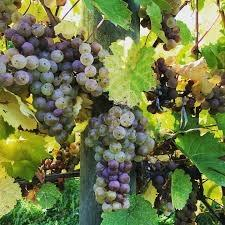Grape Rotten: (0, 1, 225, 214), (0, 13, 109, 145), (84, 104, 156, 212)
